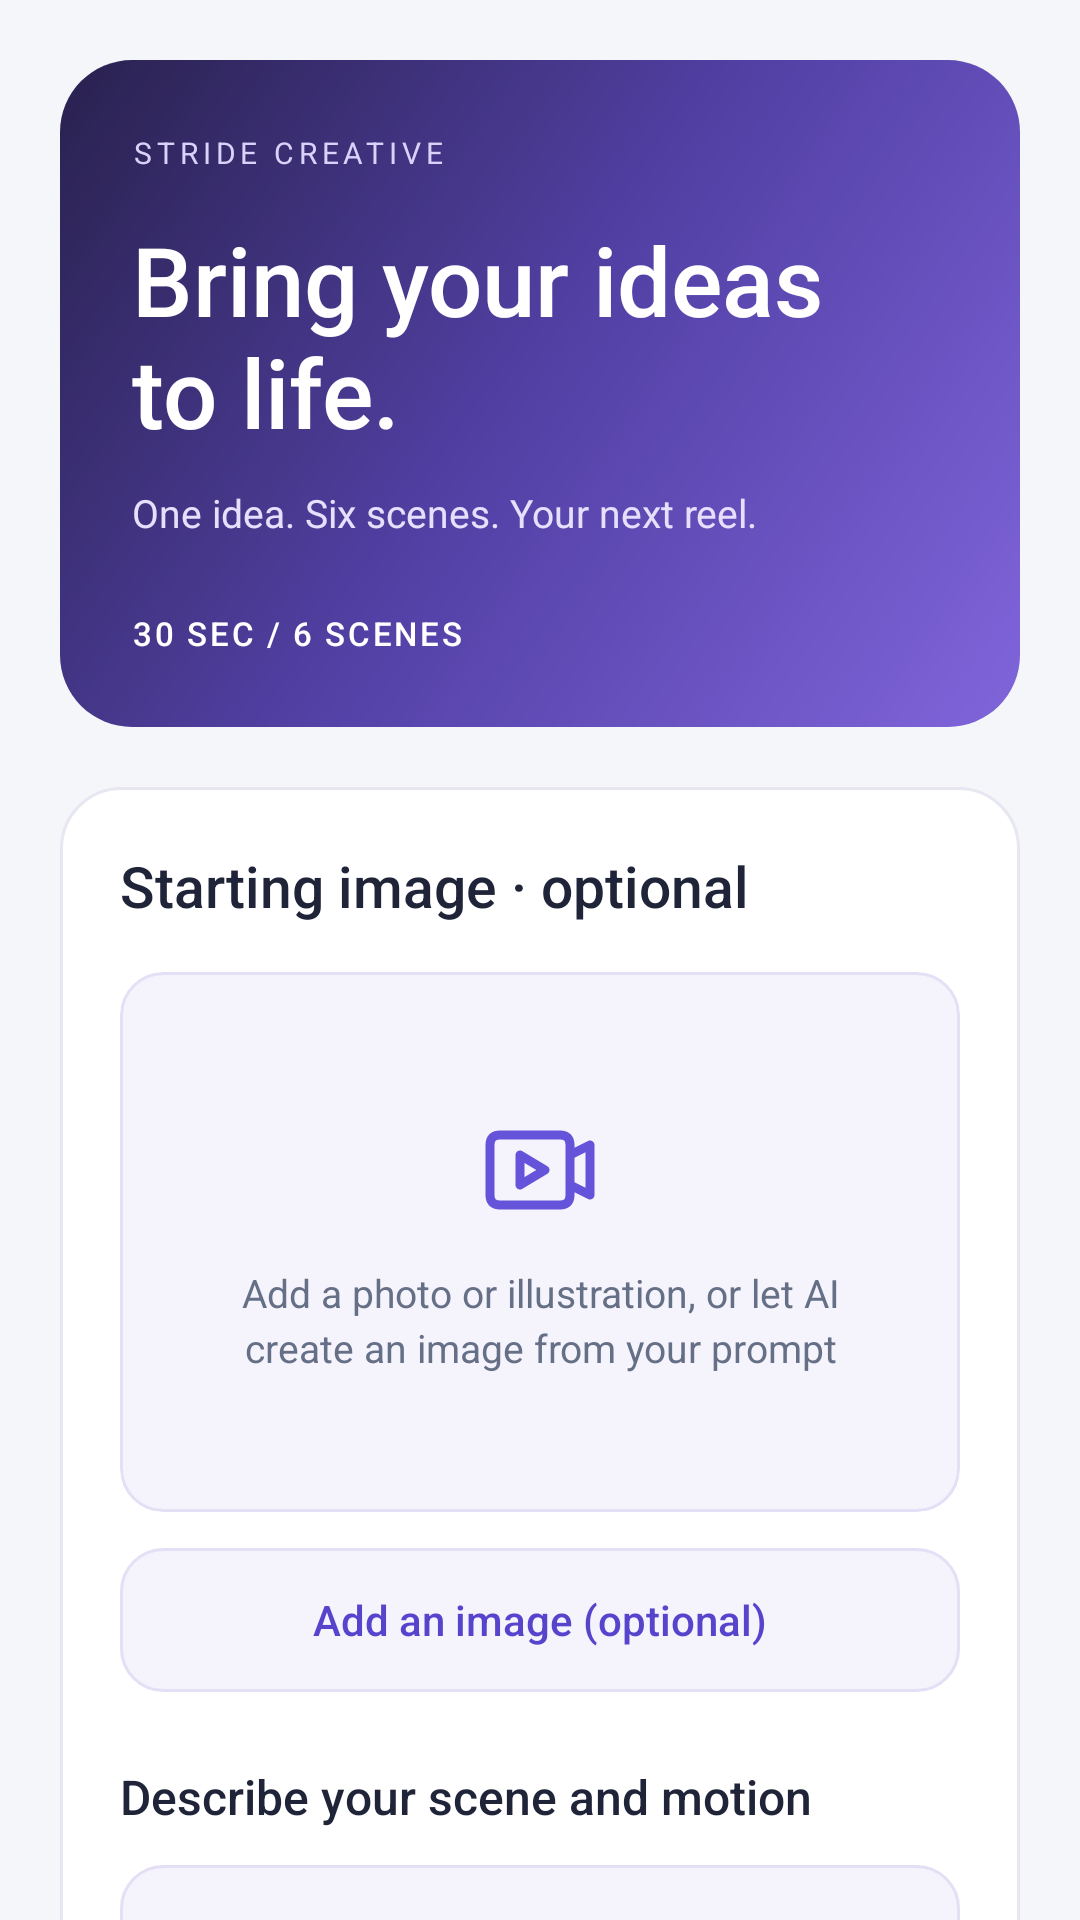

Icons on this 1080px×1920px Android screen, each with the point to tap as (x,y):
workspace video: (540,1170)
